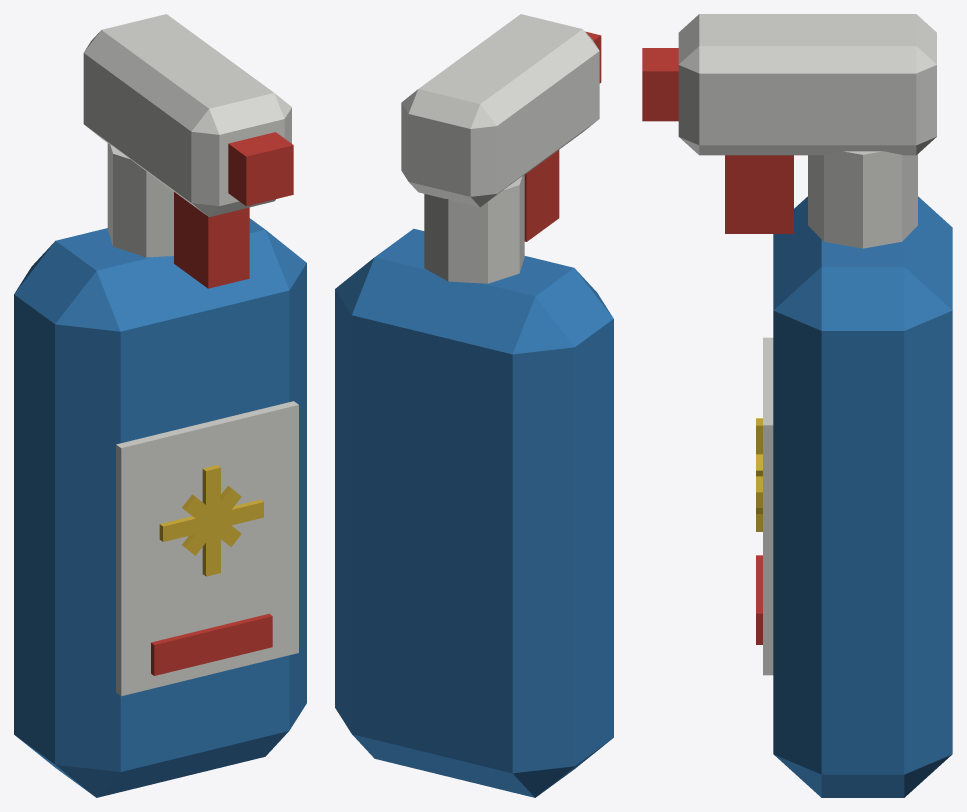
Rendered from hh_nuoc_tay.glb.
The picture shows the model from 3 angles, left to right: view 1: azimuth 30°, elevation 25°; view 2: azimuth 150°, elevation 25°; view 3: azimuth 270°, elevation 25°; orthographic projection. The views are drawn at different scales.
Parts seen in each view (by area): view 1: hh_nuoc_tay; view 2: hh_nuoc_tay; view 3: hh_nuoc_tay.
Boxes of the visible parts, bbox=[...] form: hh_nuoc_tay: bbox=[14, 14, 306, 797]; hh_nuoc_tay: bbox=[335, 14, 613, 797]; hh_nuoc_tay: bbox=[642, 14, 952, 797].
Size of the model in its own units: 0.085 by 0.2325 by 0.09.
